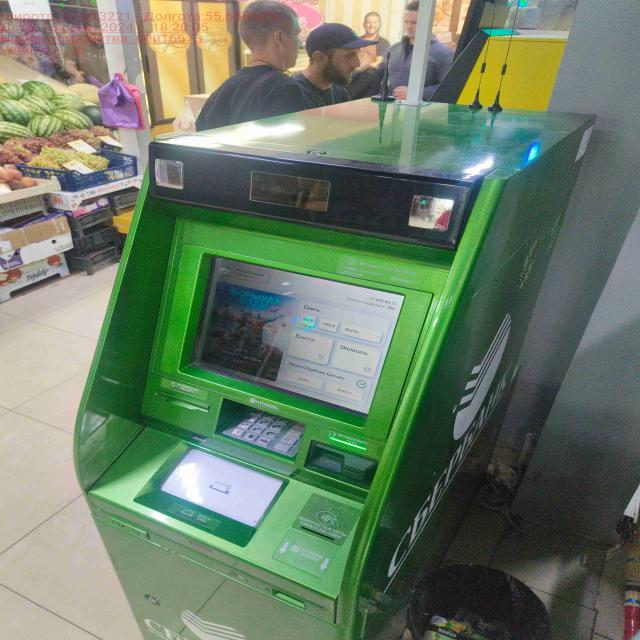bank: (75, 87, 604, 640)
